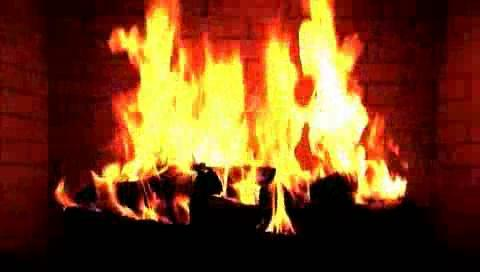fire: (92, 6, 395, 231)
